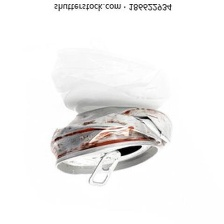can: (47, 105, 175, 189)
